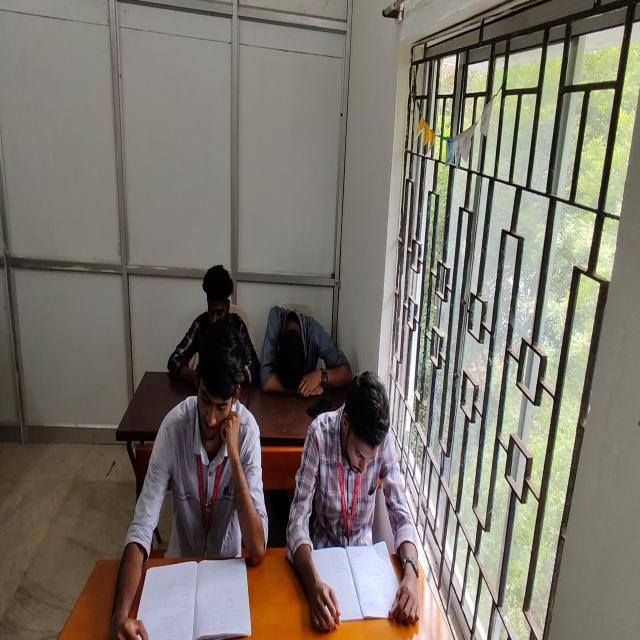reading: (112, 315, 267, 638), (289, 370, 410, 634)
sleeping: (263, 306, 350, 397)
using_mobile: (166, 265, 259, 392)
